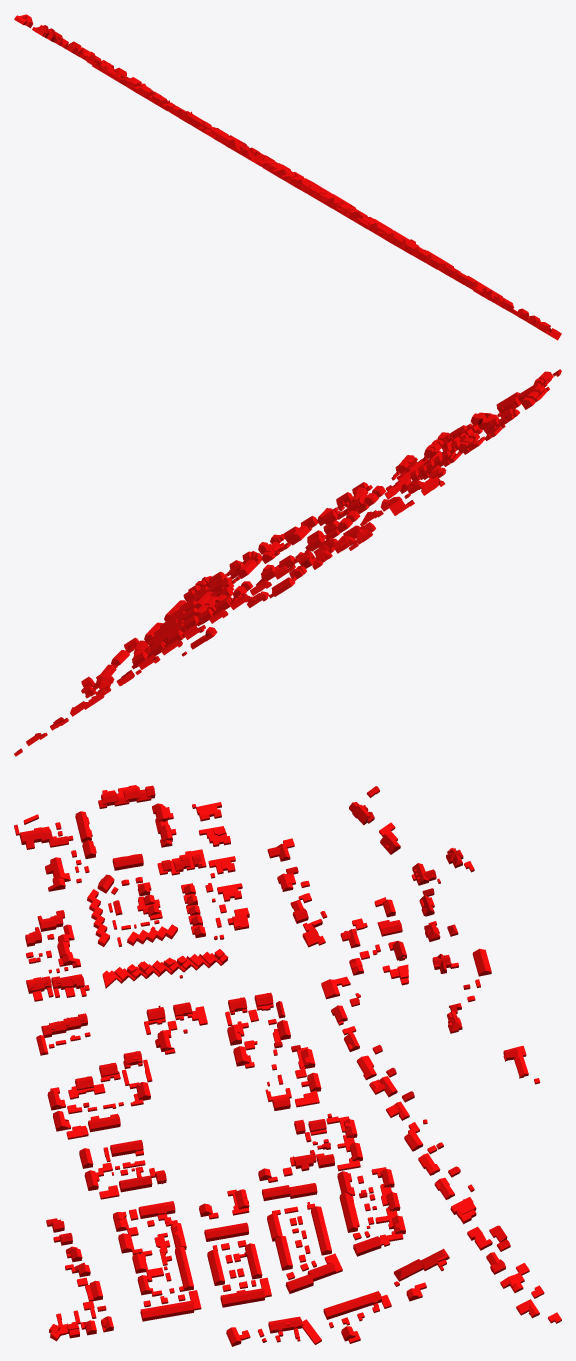
The picture shows the model from 3 angles, top to bottom: view 1: azimuth 30°, elevation 25°; view 2: azimuth 150°, elevation 25°; view 3: azimuth 270°, elevation 25°; orthographic projection. The views are drawn at different scales.
Visible parts, largest first — view 1: mesh; view 2: mesh; view 3: mesh.
Part boxes in pixels (box(x1,y1,x2,y2)): mesh: box(14, 14, 561, 340); mesh: box(14, 369, 561, 756); mesh: box(14, 785, 561, 1346).
Bounding box in the file's own units: 402 × 314 × 434.
